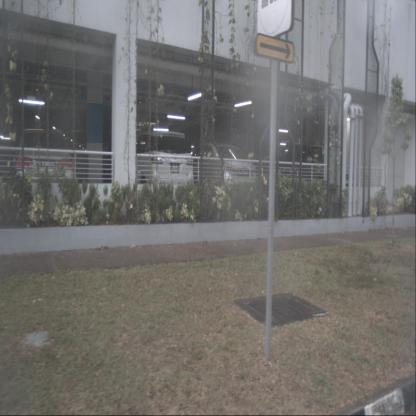vehicle-car: (115, 130, 194, 194), (266, 141, 354, 194), (10, 128, 76, 196), (177, 142, 258, 194)
